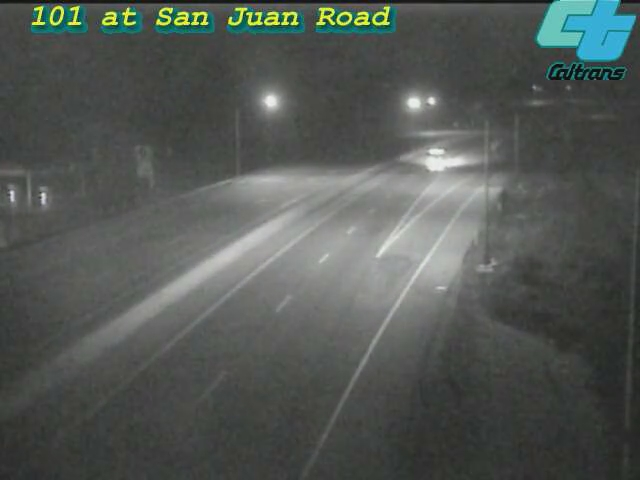vehicle: (398, 115, 478, 195)
